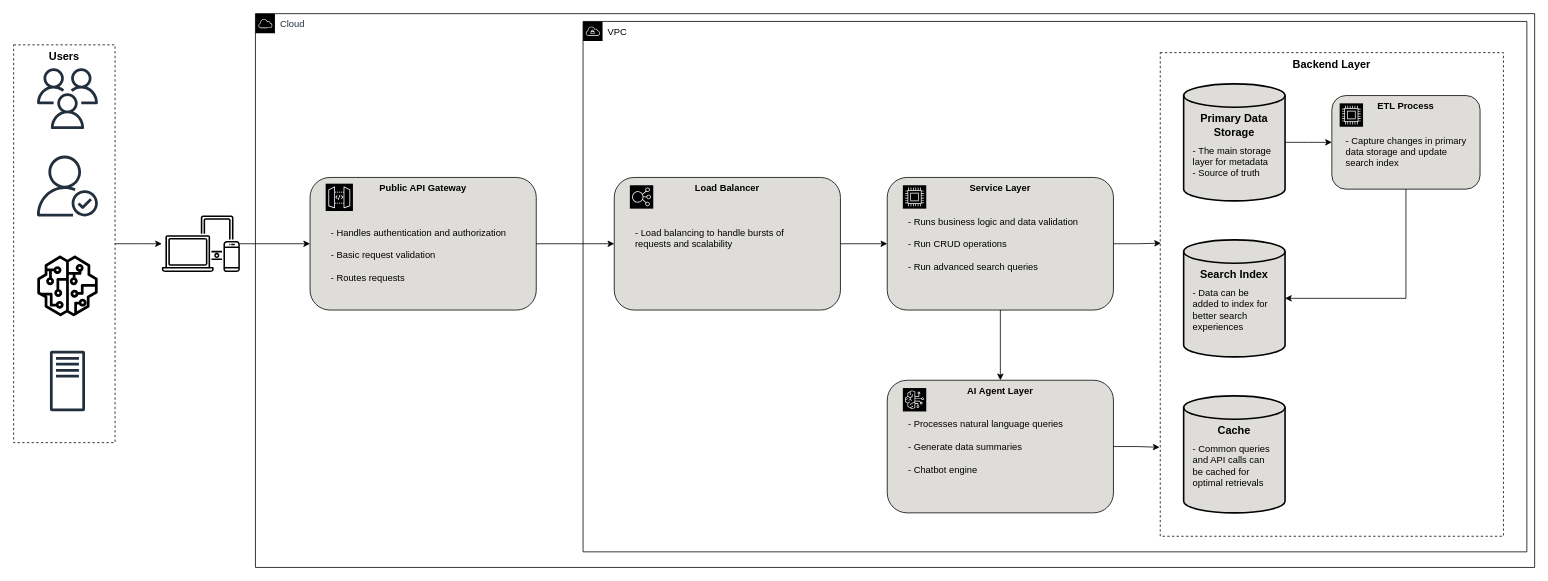
Image size: 1548x581. Some labels were removed from this diagram. Each missing label, with the centre of its shape:
Admins: the point at 67,185
AI Agents: the point at 67,285
Lab Systems: the point at 67,380
Researchers: the point at 67,98
User interface: the point at 200,243
